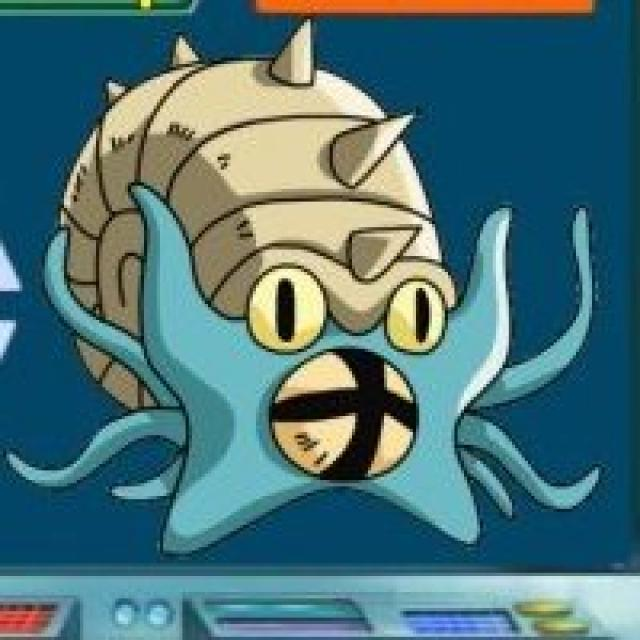Omastar: (49, 33, 487, 547)
